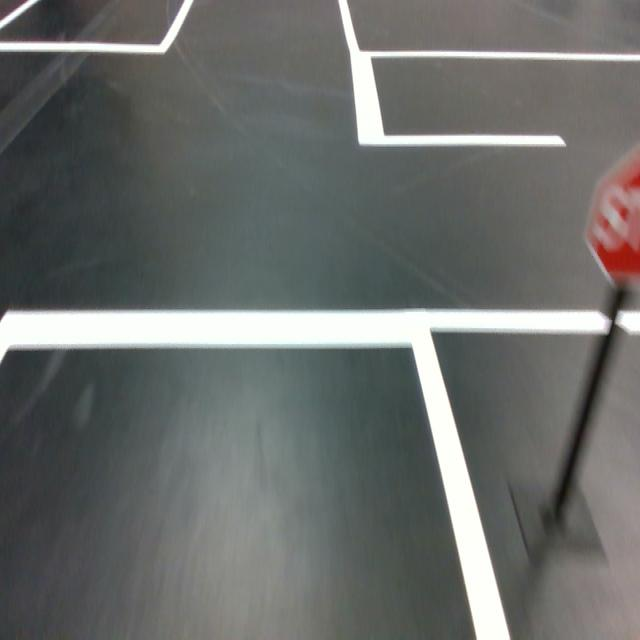stop-sign: (581, 142, 640, 290)
